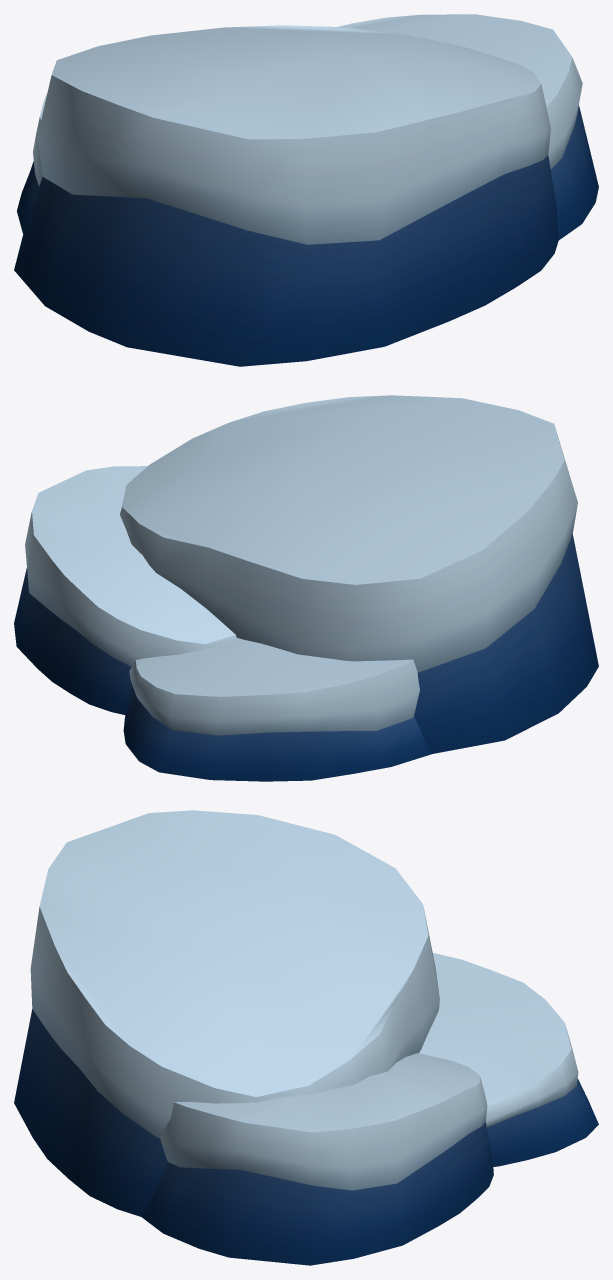
Rendered from snow-rock-cluster-03.glb.
3 views of the same model, one above another, from view 1: azimuth 30°, elevation 25°; view 2: azimuth 150°, elevation 25°; view 3: azimuth 270°, elevation 25° (orthographic). The views are drawn at different scales.
Visible parts, largest first — view 1: Snow Rock 02, Snow Rock 02 (1), Snow Rock 01; view 2: Snow Rock 02, Snow Rock 01, Snow Rock 02 (1); view 3: Snow Rock 02, Snow Rock 02 (1), Snow Rock 01.
Boxes of the visible parts, x1,y1,x2,y2 form: Snow Rock 02: (14, 25, 558, 366); Snow Rock 02 (1): (338, 14, 598, 240); Snow Rock 01: (17, 92, 47, 233); Snow Rock 02: (120, 395, 598, 753); Snow Rock 01: (123, 637, 431, 781); Snow Rock 02 (1): (14, 466, 236, 714); Snow Rock 02: (14, 810, 439, 1216); Snow Rock 02 (1): (141, 1053, 493, 1265); Snow Rock 01: (419, 953, 598, 1166).
Size of the model in its own units: 5.8 by 2.18 by 5.43.
Materials: 1 (1 with a texture image).
